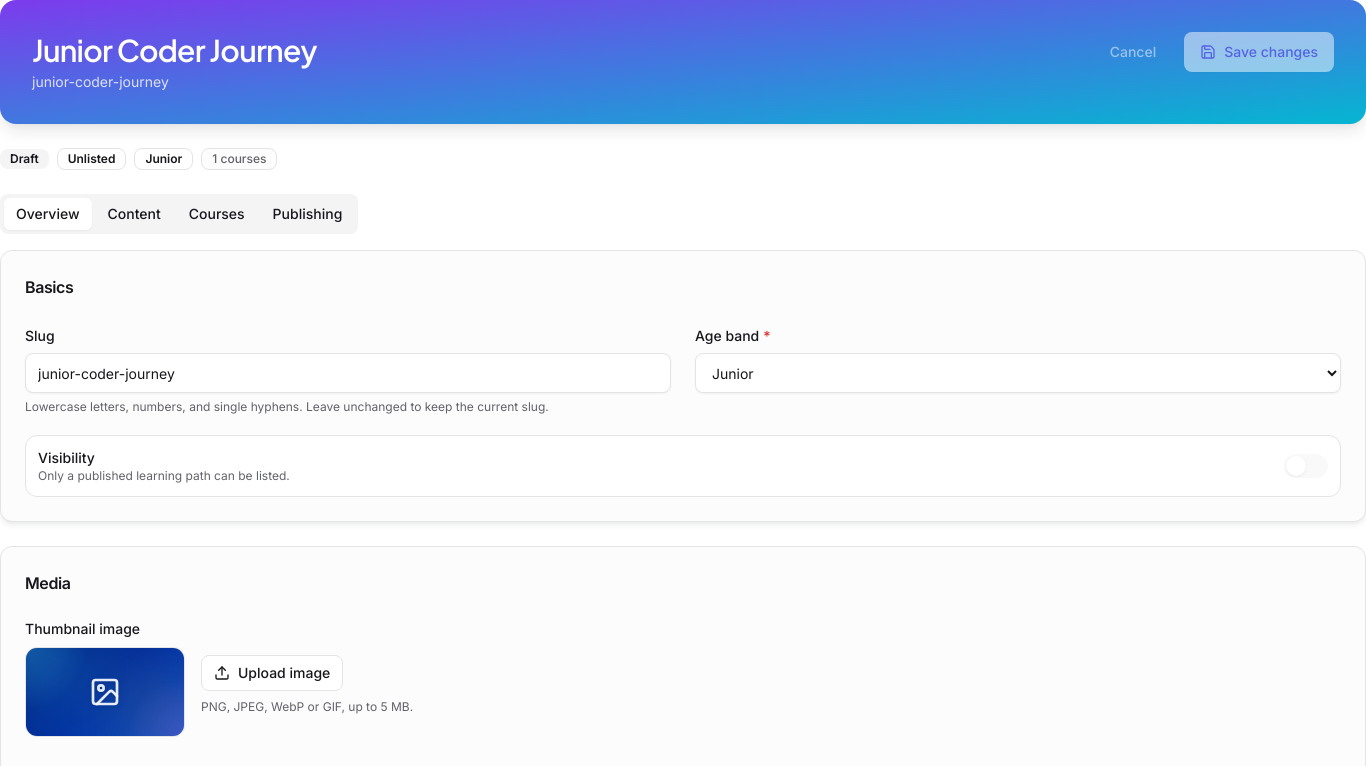
Test: LearningPathEditor › resets the form on cancel
Select "Explorer" in the dropdown labelled "Age band" at (1018, 373), box [695,353,1341,393]
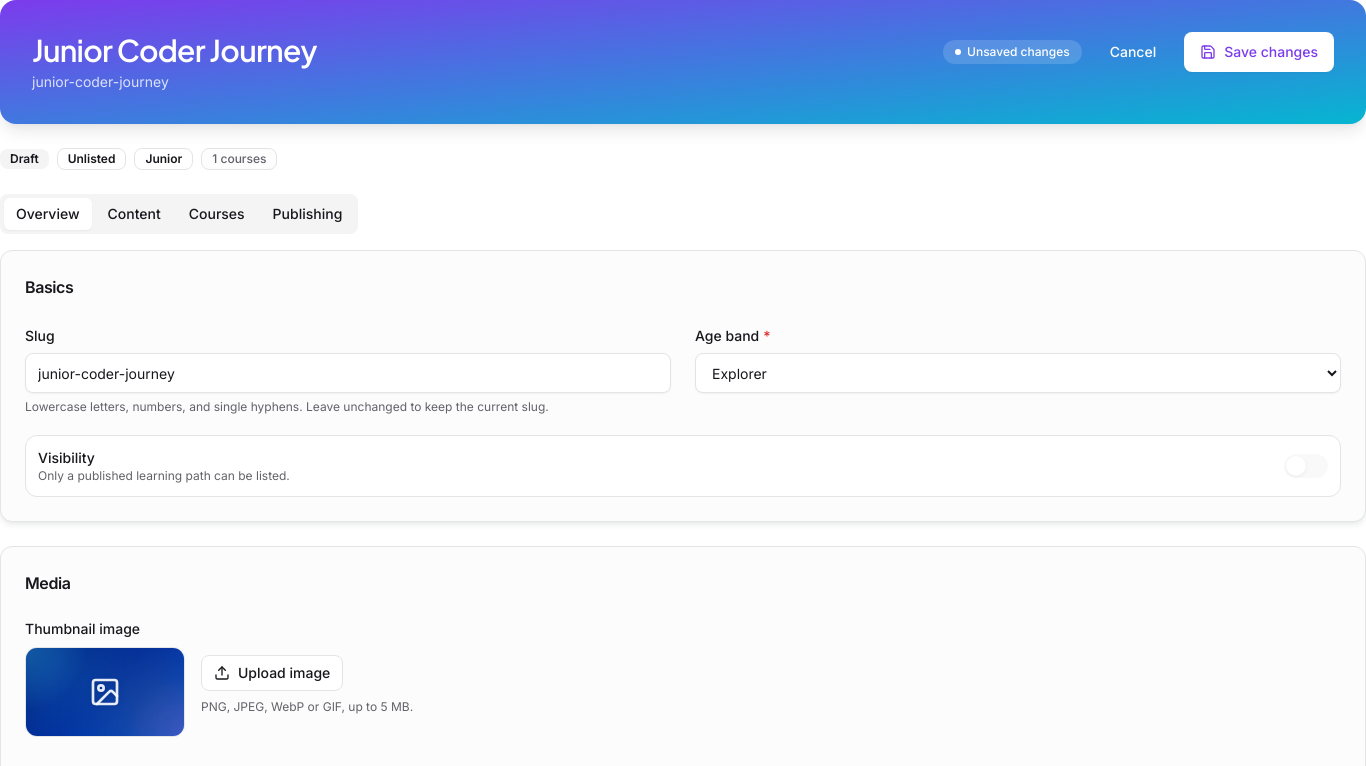
Click the button "Cancel" at (1133, 52), box [1094,32,1172,72]
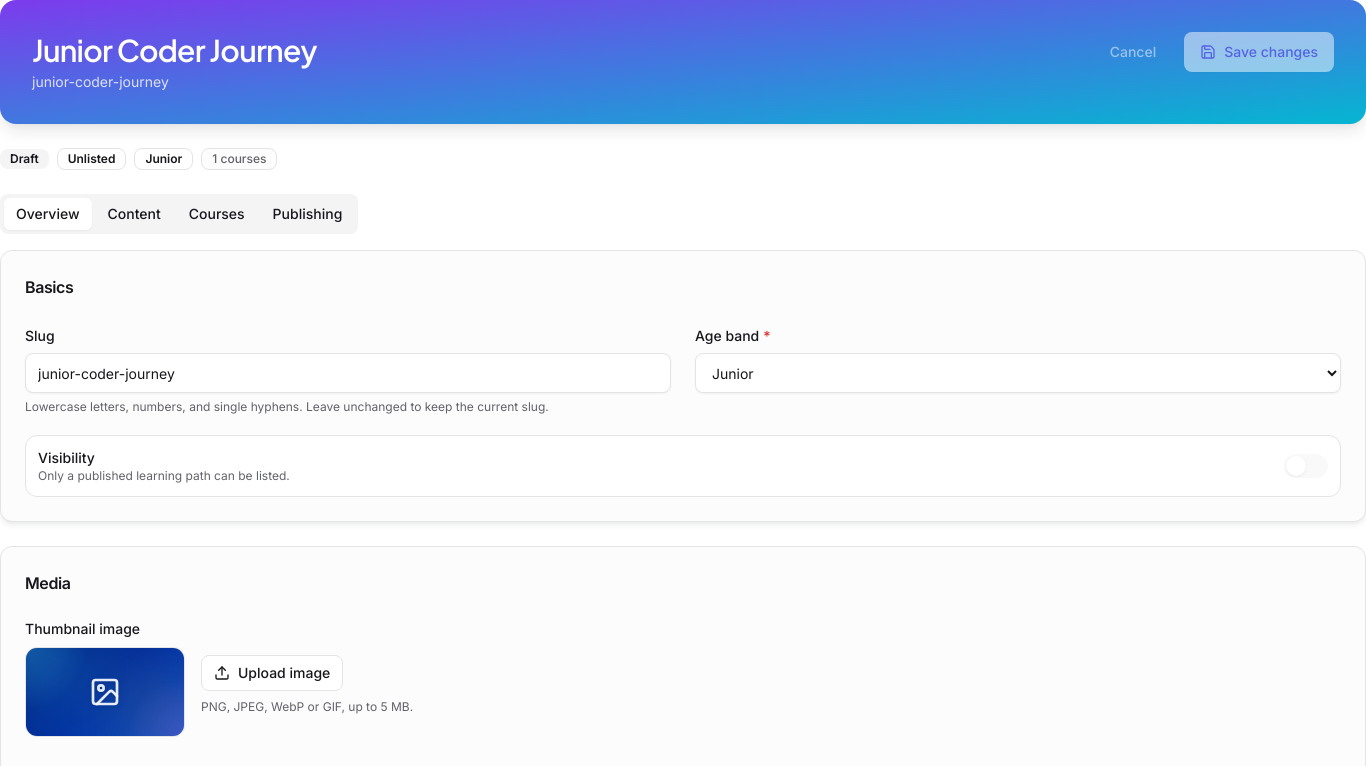
Now the button "Save changes" is disabled, box [1184,32,1334,72]
